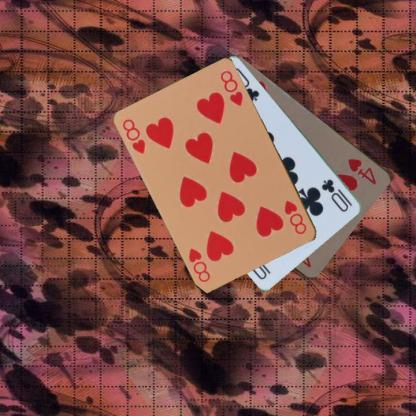10c: (319, 176, 354, 213)
4h: (344, 155, 378, 186)
8h: (121, 116, 148, 156), (282, 197, 309, 236)
